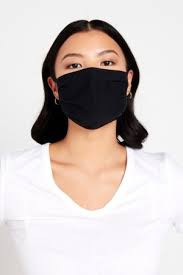FaceMask: (56, 68, 128, 130)
